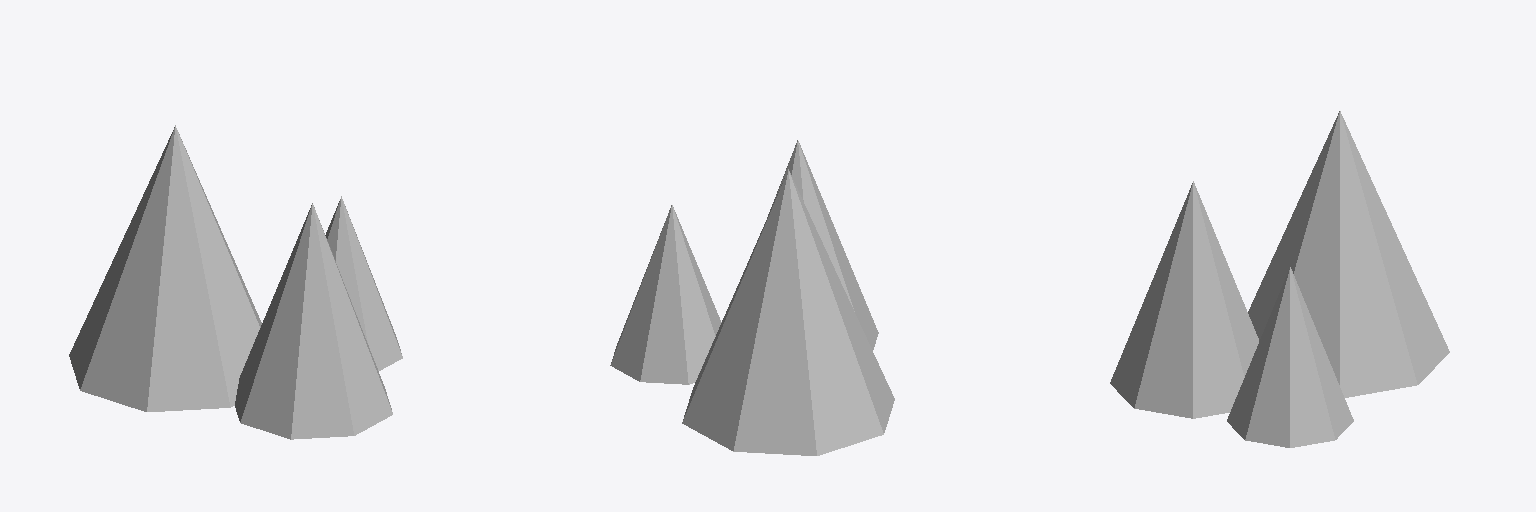
File: Obj_Tree_1.obj
The picture shows the model from 3 angles: view 1: azimuth 30°, elevation 25°; view 2: azimuth 150°, elevation 25°; view 3: azimuth 270°, elevation 25°; orthographic projection.
Visible parts, largest first — view 1: Obj_Tree_1; view 2: Obj_Tree_1; view 3: Obj_Tree_1.
Boxes of the visible parts, box(x1,y1,x2,y2) form: Obj_Tree_1: box(69, 125, 402, 439); Obj_Tree_1: box(610, 140, 894, 455); Obj_Tree_1: box(1110, 111, 1449, 447).
Bounding box in the file's own units: 93.92 × 74.4 × 94.81.